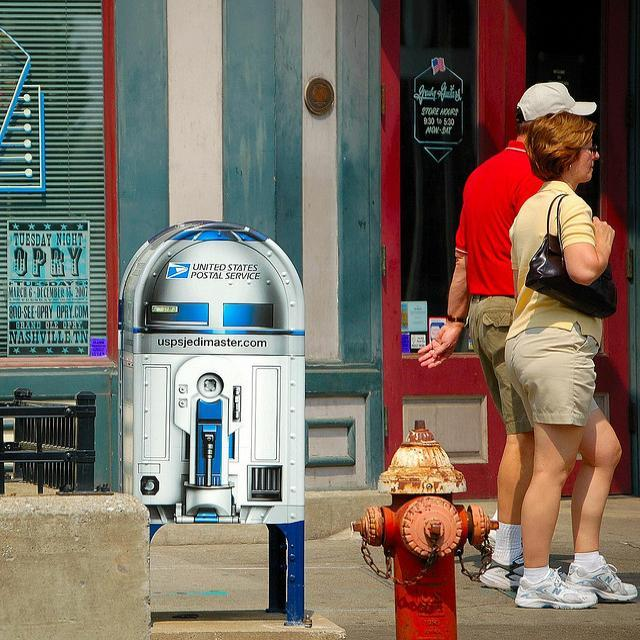fire_hydrant: (377, 420, 497, 638)
